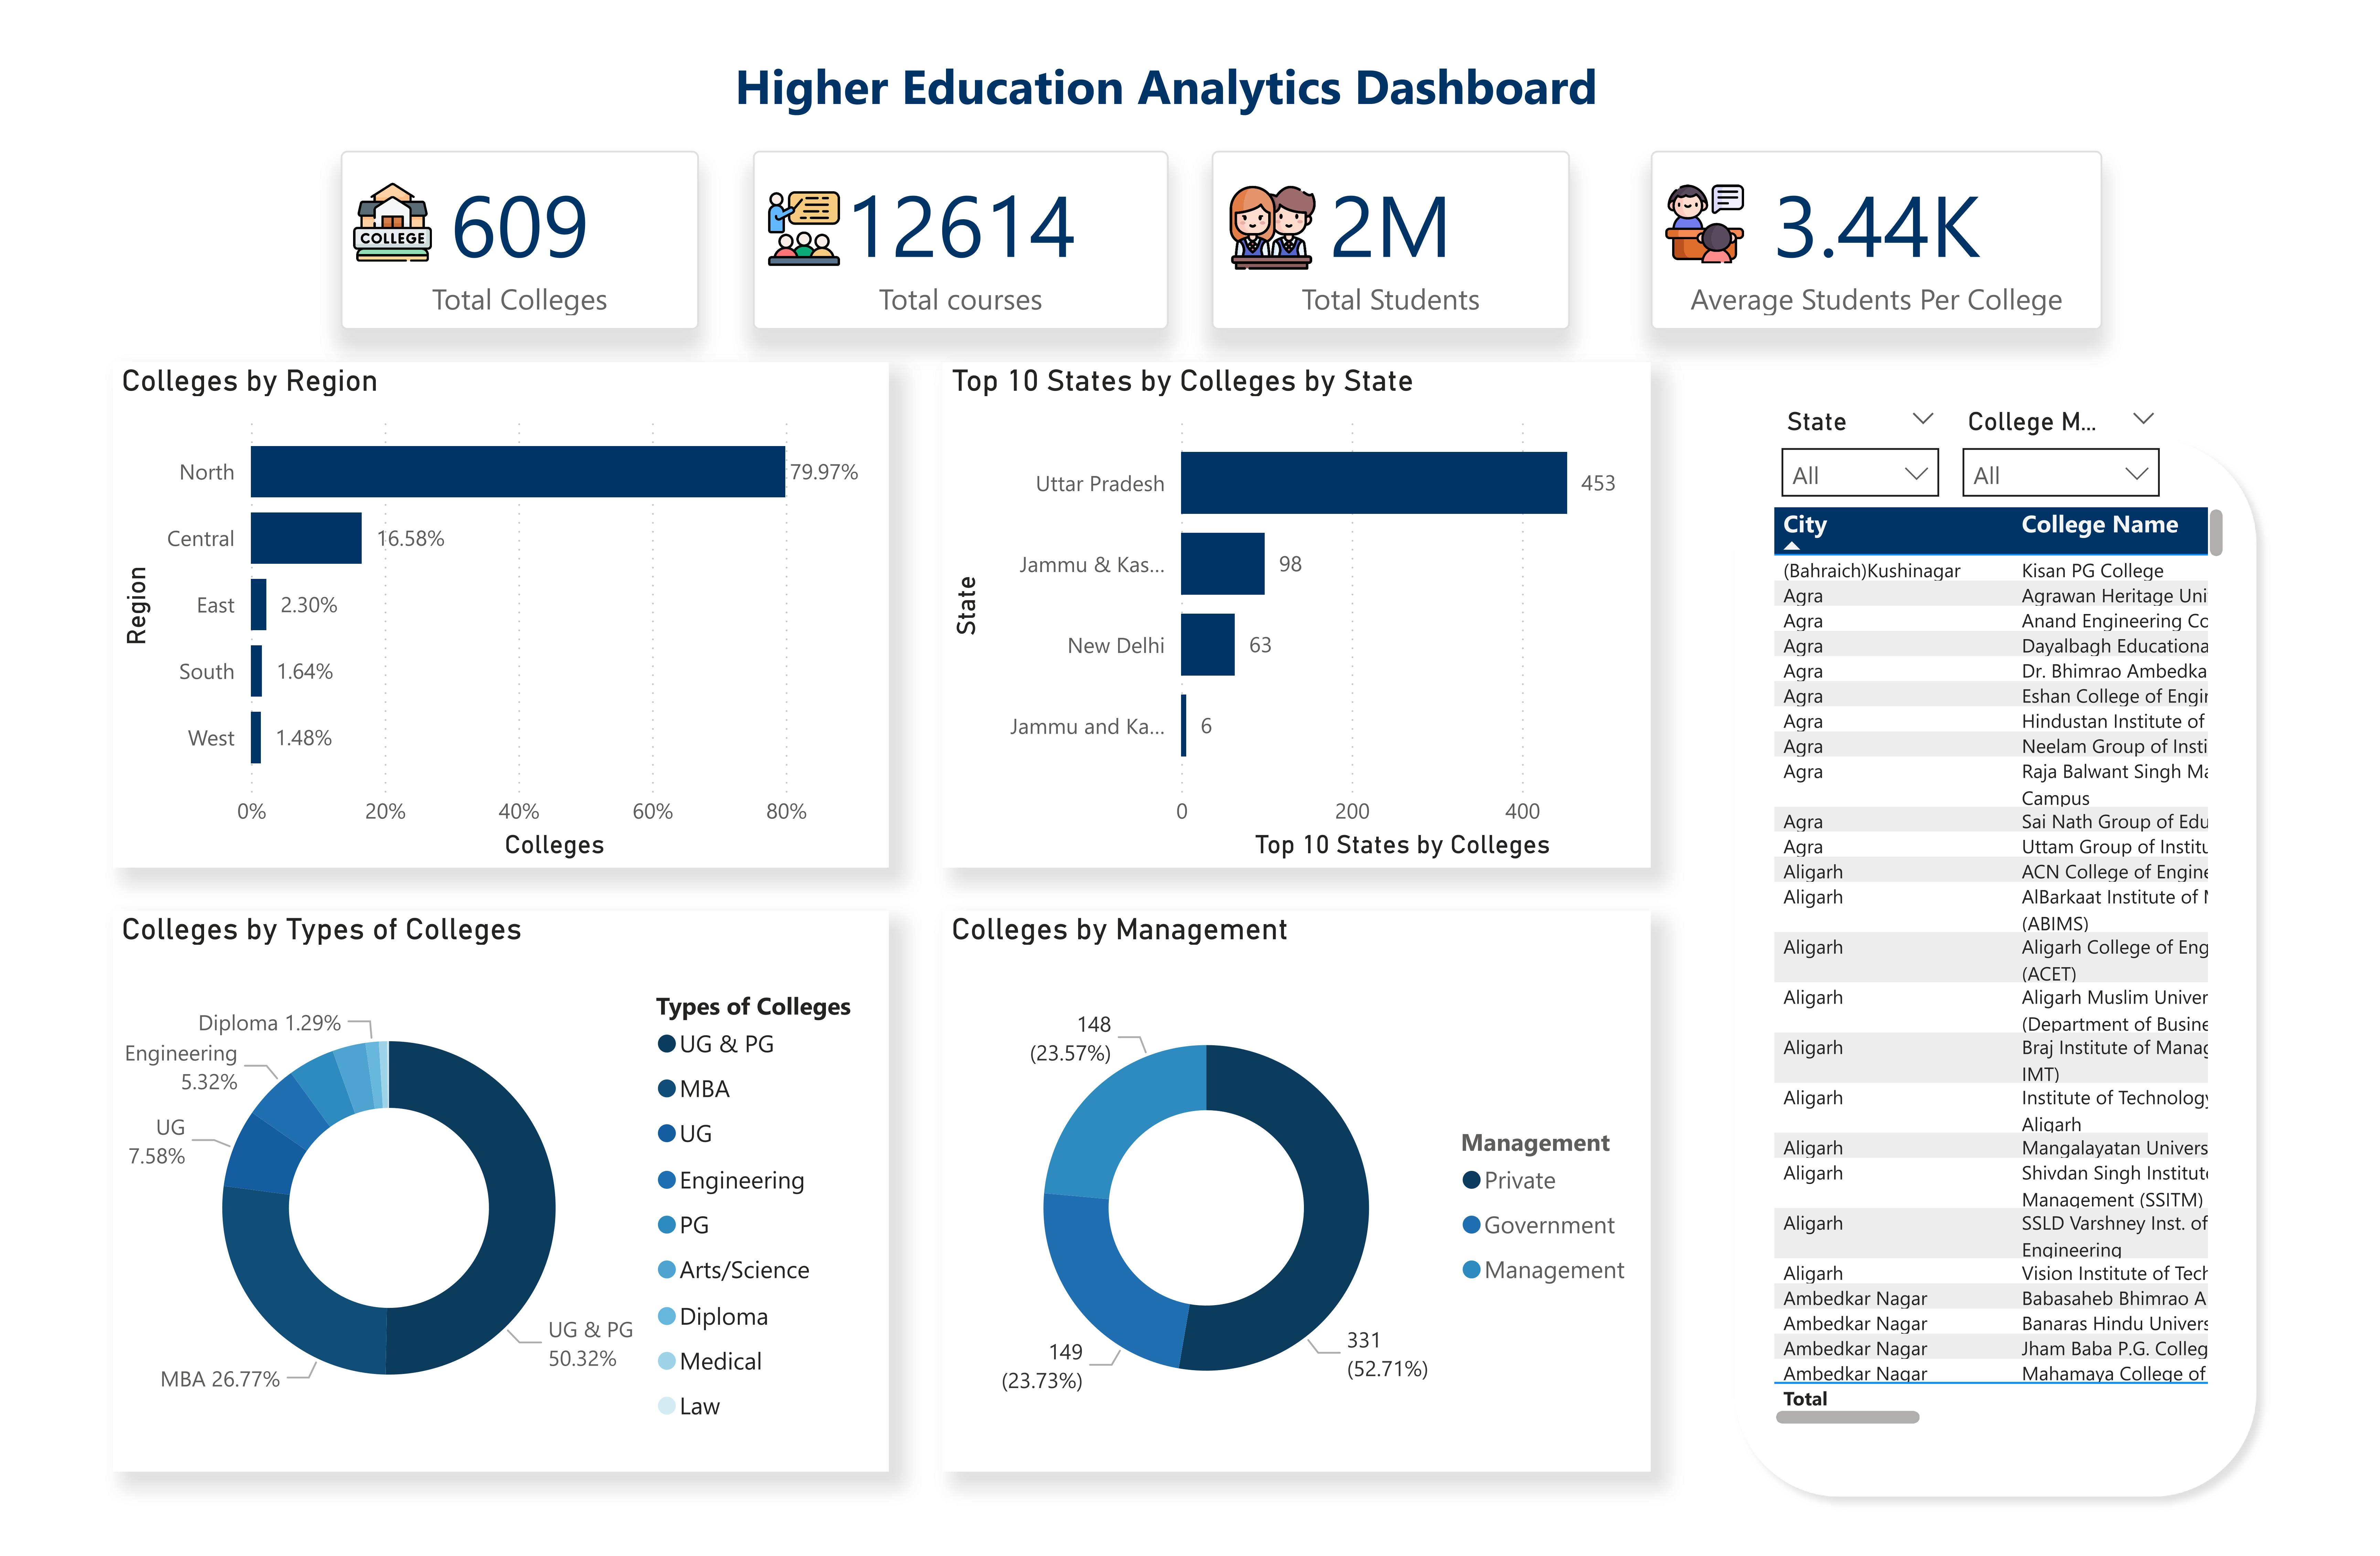

This screenshot's page, from the dashboard's own definition file:
{"tool":"powerbi","page":{"name":"Main Dashboard","canvas":[1280,790],"ordinal":0},"visuals":[{"type":"shape","box":[932,173,297,607],"z":0},{"type":"textbox","box":[380.5,0,519,58.3],"z":1000},{"type":"card","fields":{"Values":["Sheet1.College Name"]},"box":[166,60.2,199.5,100.3],"z":2000},{"type":"card","fields":{"Values":["Sheet1.Total no. of Courses"]},"box":[395.6,60.2,232.6,100.3],"z":3000},{"type":"card","fields":{"Values":["Sheet1.Student Strength"]},"box":[652,60.2,199.5,100.3],"z":4000},{"type":"card","fields":{"Values":["Sheet1.Student Strength"]},"box":[897,60.2,252.3,100.3],"z":5000},{"type":"barChart","fields":{"Category":["Sheet1.Region"],"Y":["Sheet1.College Name"]},"box":[39,177.7,418,282],"z":6000},{"type":"barChart","fields":{"Category":["Sheet1.State"],"Y":["Sheet1.College Name"]},"box":[502,177.7,375,282],"z":7000},{"type":"donutChart","fields":{"Category":["Sheet1.College Type"],"Y":["Sheet1.College Name"]},"box":[39,483.7,418,296],"z":8000},{"type":"donutChart","fields":{"Category":["Sheet1.College Management"],"Y":["Sheet1.College Name"]},"box":[502,483.7,375,296],"z":9000},{"type":"tableEx","fields":{"Values":["Sheet1.City","Sheet1.College Name","Sheet1.Student Strength","Sheet1.Total no. of Courses"]},"box":[948,228,263,522],"z":10000},{"type":"slicer","fields":{"Values":["Sheet1.State"]},"box":[948,172.7,109,62],"z":11000},{"type":"slicer","fields":{"Values":["Sheet1.College Management"]},"box":[1066,168.7,130,59],"z":12000},{"type":"image","box":[173.3,60.2,43.4,79.6],"z":13000},{"type":"image","box":[395.6,81.9,56.9,43.4],"z":14000},{"type":"image","box":[609.6,78.8,151,48.6],"z":15000},{"type":"image","box":[851.5,78.8,151,44.5],"z":16000}]}

Visuals, with their boxes on the page's 1280x790 design canvas (x1, y1, x2, y2). These are canvas units, not pixel positions in the 2380x1556 screenshot, which may show the page scaled, cropped or inside an application window:
shape: pyautogui.locateOnScreen(932, 173, 1229, 780)
textbox: pyautogui.locateOnScreen(380, 0, 900, 58)
card - Sheet1.College Name: pyautogui.locateOnScreen(166, 60, 366, 160)
card - Sheet1.Total no. of Courses: pyautogui.locateOnScreen(396, 60, 628, 160)
card - Sheet1.Student Strength: pyautogui.locateOnScreen(652, 60, 852, 160)
card - Sheet1.Student Strength: pyautogui.locateOnScreen(897, 60, 1149, 160)
barChart - Sheet1.Region x Sheet1.College Name: pyautogui.locateOnScreen(39, 178, 457, 460)
barChart - Sheet1.State x Sheet1.College Name: pyautogui.locateOnScreen(502, 178, 877, 460)
donutChart - Sheet1.College Type x Sheet1.College Name: pyautogui.locateOnScreen(39, 484, 457, 780)
donutChart - Sheet1.College Management x Sheet1.College Name: pyautogui.locateOnScreen(502, 484, 877, 780)
tableEx - Sheet1.City x Sheet1.College Name: pyautogui.locateOnScreen(948, 228, 1211, 750)
slicer - Sheet1.State: pyautogui.locateOnScreen(948, 173, 1057, 235)
slicer - Sheet1.College Management: pyautogui.locateOnScreen(1066, 169, 1196, 228)
image: pyautogui.locateOnScreen(173, 60, 217, 140)
image: pyautogui.locateOnScreen(396, 82, 452, 125)
image: pyautogui.locateOnScreen(610, 79, 761, 127)
image: pyautogui.locateOnScreen(852, 79, 1002, 123)
